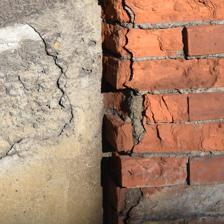Crack: (51, 6, 105, 84), (25, 63, 109, 111), (6, 0, 50, 58), (58, 51, 94, 89)
